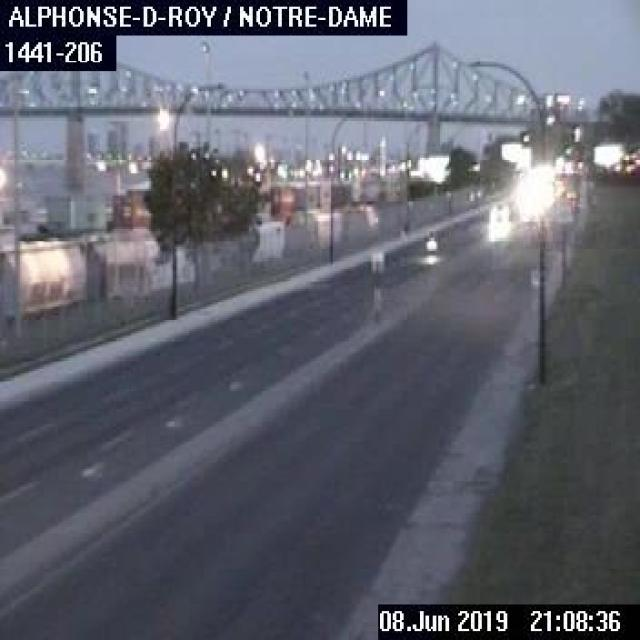vehicle: (484, 200, 506, 226), (426, 225, 434, 251)
